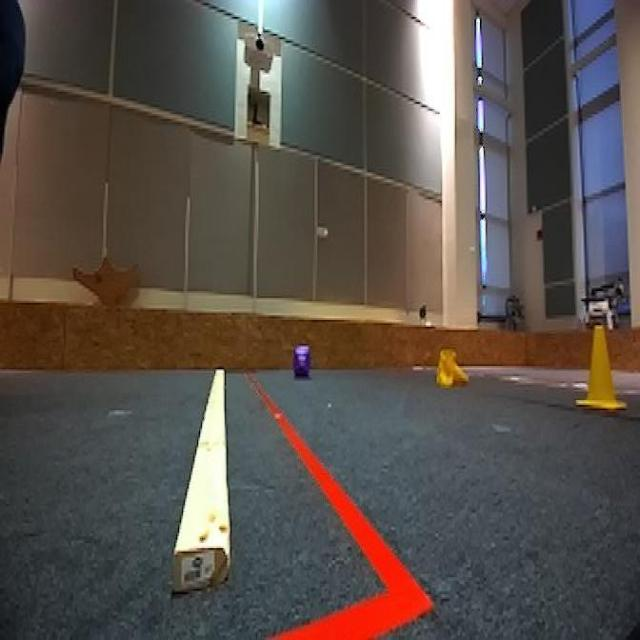frc_cone: (575, 322, 624, 412), (432, 345, 472, 390)
frc_cube: (292, 346, 310, 380)
